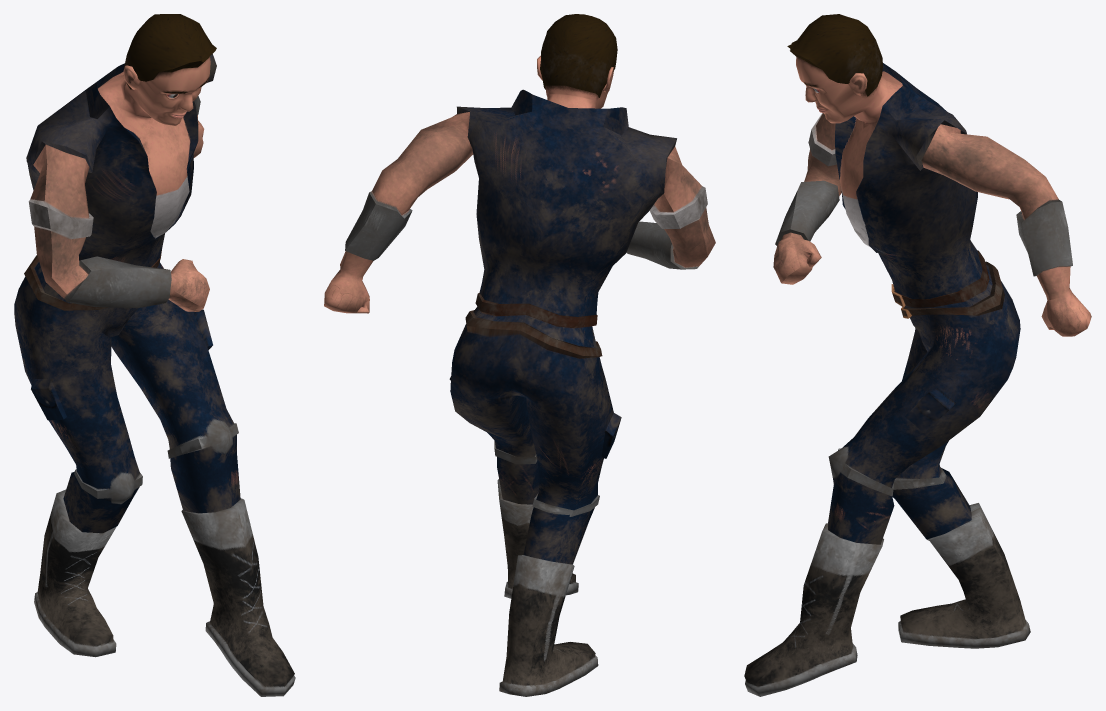
File: Anim_dash_jugador.0018.obj
3 renders of one model, left to right at view 1: azimuth 30°, elevation 25°; view 2: azimuth 150°, elevation 25°; view 3: azimuth 270°, elevation 25°, orthographic. The views are drawn at different scales.
Visible parts, largest first — view 1: polySurface1; view 2: polySurface1; view 3: polySurface1.
Boxes of the visible parts, x1,y1,x2,y2 form: polySurface1: [14, 14, 295, 696]; polySurface1: [324, 14, 715, 696]; polySurface1: [744, 14, 1091, 696].
Size of the model in its own units: 4.04 by 8.96 by 4.4.
